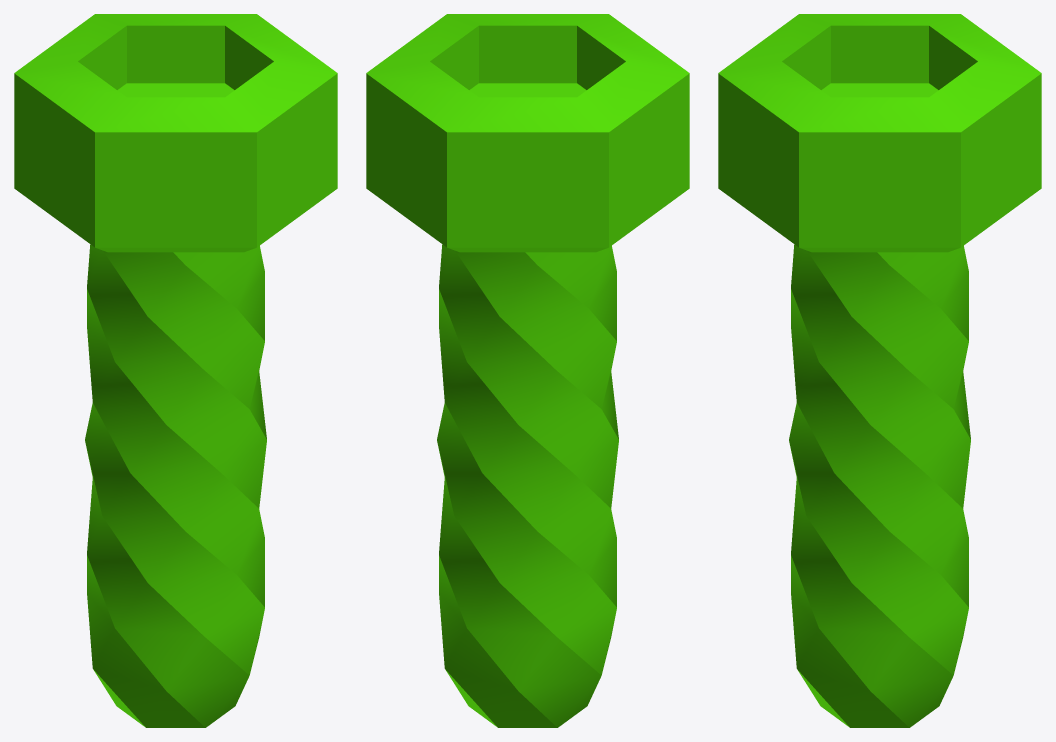
File: shtuka_1.fbx
The picture shows the model from 3 angles, left to right: view 1: azimuth 30°, elevation 25°; view 2: azimuth 150°, elevation 25°; view 3: azimuth 270°, elevation 25°; orthographic projection.
Visible parts, largest first — view 1: big_bolt; view 2: big_bolt; view 3: big_bolt.
Part boxes in pixels (bbox=[...]): big_bolt: bbox=[14, 14, 337, 727]; big_bolt: bbox=[366, 14, 689, 727]; big_bolt: bbox=[718, 14, 1041, 727].
Size of the model in its own units: 15.48 by 39.3 by 17.88.
